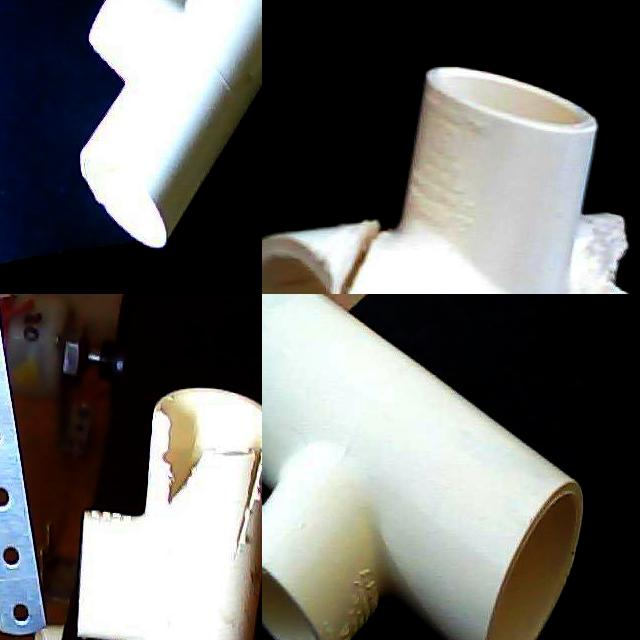Defective: (302, 225, 434, 294), (557, 196, 640, 294), (155, 394, 222, 509), (240, 395, 262, 575), (110, 597, 150, 640)
T Joint: (262, 294, 587, 640), (76, 387, 262, 640)
